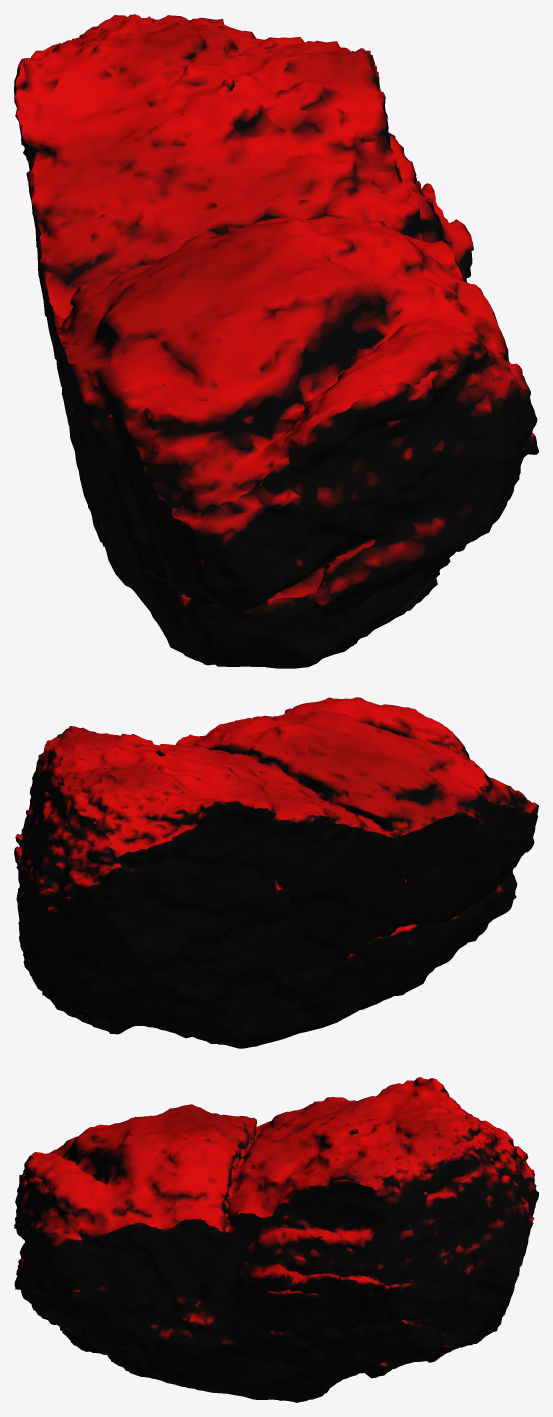
The model's file is SM_BoulderLargeMoss_01.fbx.
3 views of the same model, one above another, from view 1: azimuth 30°, elevation 25°; view 2: azimuth 150°, elevation 25°; view 3: azimuth 270°, elevation 25° (orthographic). The views are drawn at different scales.
Parts seen in each view (by area): view 1: SM_BoulderLargeMoss_01; view 2: SM_BoulderLargeMoss_01; view 3: SM_BoulderLargeMoss_01.
Boxes of the visible parts, x1,y1,x2,y2 form: SM_BoulderLargeMoss_01: (14, 14, 538, 668); SM_BoulderLargeMoss_01: (14, 697, 538, 1048); SM_BoulderLargeMoss_01: (14, 1077, 538, 1402).
Bounding box in the file's own units: 157 × 230 × 130.
